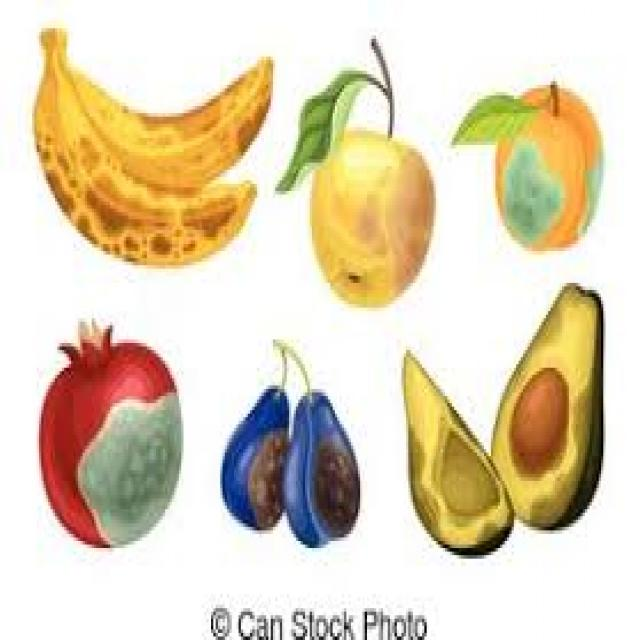organic waste: (29, 25, 254, 265), (50, 29, 273, 188), (36, 311, 184, 548), (489, 280, 603, 530), (399, 350, 512, 559), (308, 124, 432, 304), (493, 81, 601, 244), (280, 389, 358, 548), (270, 67, 364, 191), (220, 382, 289, 530), (507, 364, 567, 474), (445, 88, 537, 145)
